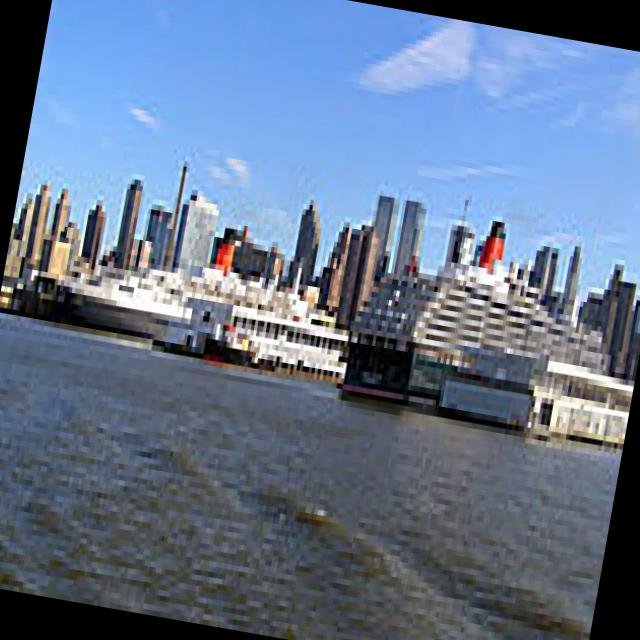boat: (353, 226, 610, 442), (161, 285, 353, 396)
